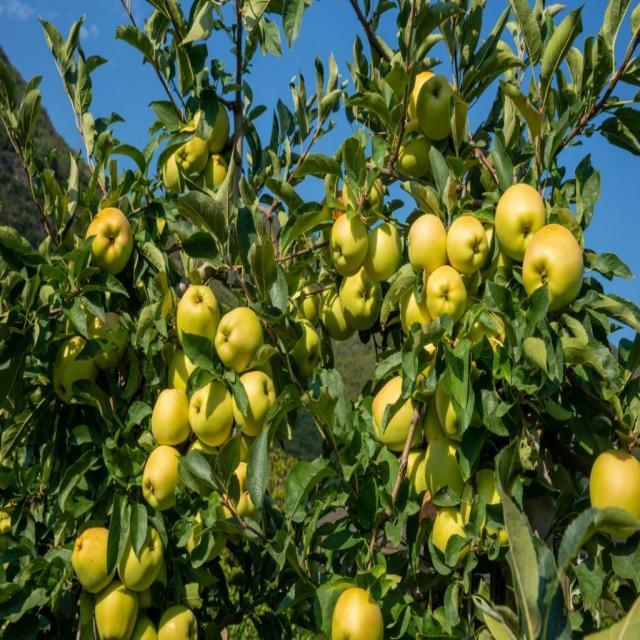Green Apple: (523, 228, 589, 307), (463, 466, 513, 543), (591, 450, 640, 527), (374, 376, 424, 444), (497, 186, 546, 252), (235, 373, 286, 436), (224, 461, 268, 529), (194, 373, 233, 448), (122, 525, 163, 592), (144, 443, 187, 506), (91, 209, 134, 270), (430, 436, 470, 501), (432, 498, 474, 558), (71, 520, 111, 582), (338, 586, 383, 640), (223, 309, 266, 365), (177, 277, 215, 337), (429, 268, 466, 326), (187, 509, 227, 561), (411, 212, 446, 271), (448, 216, 486, 270), (418, 78, 455, 132), (399, 117, 432, 176), (481, 217, 511, 281), (435, 374, 467, 433), (158, 387, 192, 442), (371, 223, 404, 279), (342, 270, 379, 319), (94, 586, 128, 639), (474, 311, 509, 362), (406, 448, 441, 497), (294, 319, 324, 375), (402, 284, 434, 335), (332, 213, 365, 262), (178, 127, 209, 176), (199, 98, 229, 147), (227, 421, 259, 464), (408, 70, 435, 119), (170, 349, 202, 390), (187, 437, 222, 474), (421, 401, 449, 444), (319, 282, 345, 328), (163, 607, 198, 640), (297, 284, 319, 323), (125, 607, 150, 640), (204, 153, 227, 187), (163, 154, 185, 187)
